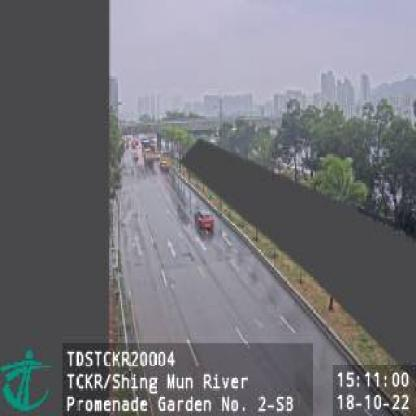Car: (195, 206, 215, 236)
